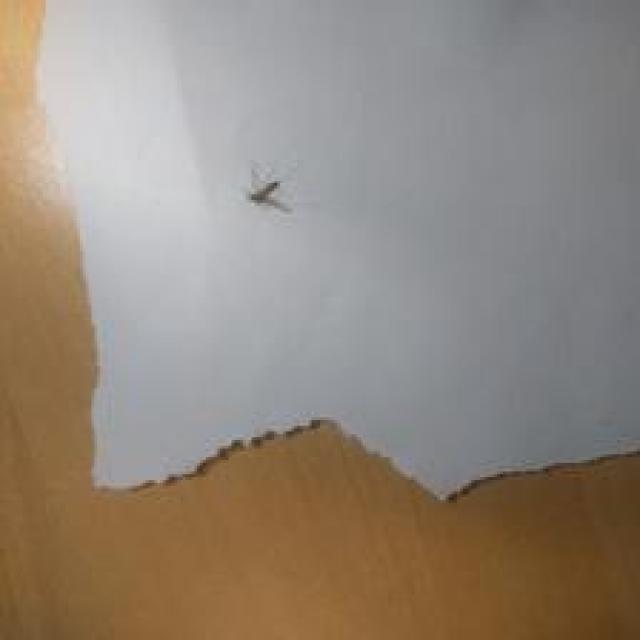Culex: (246, 166, 291, 214)
